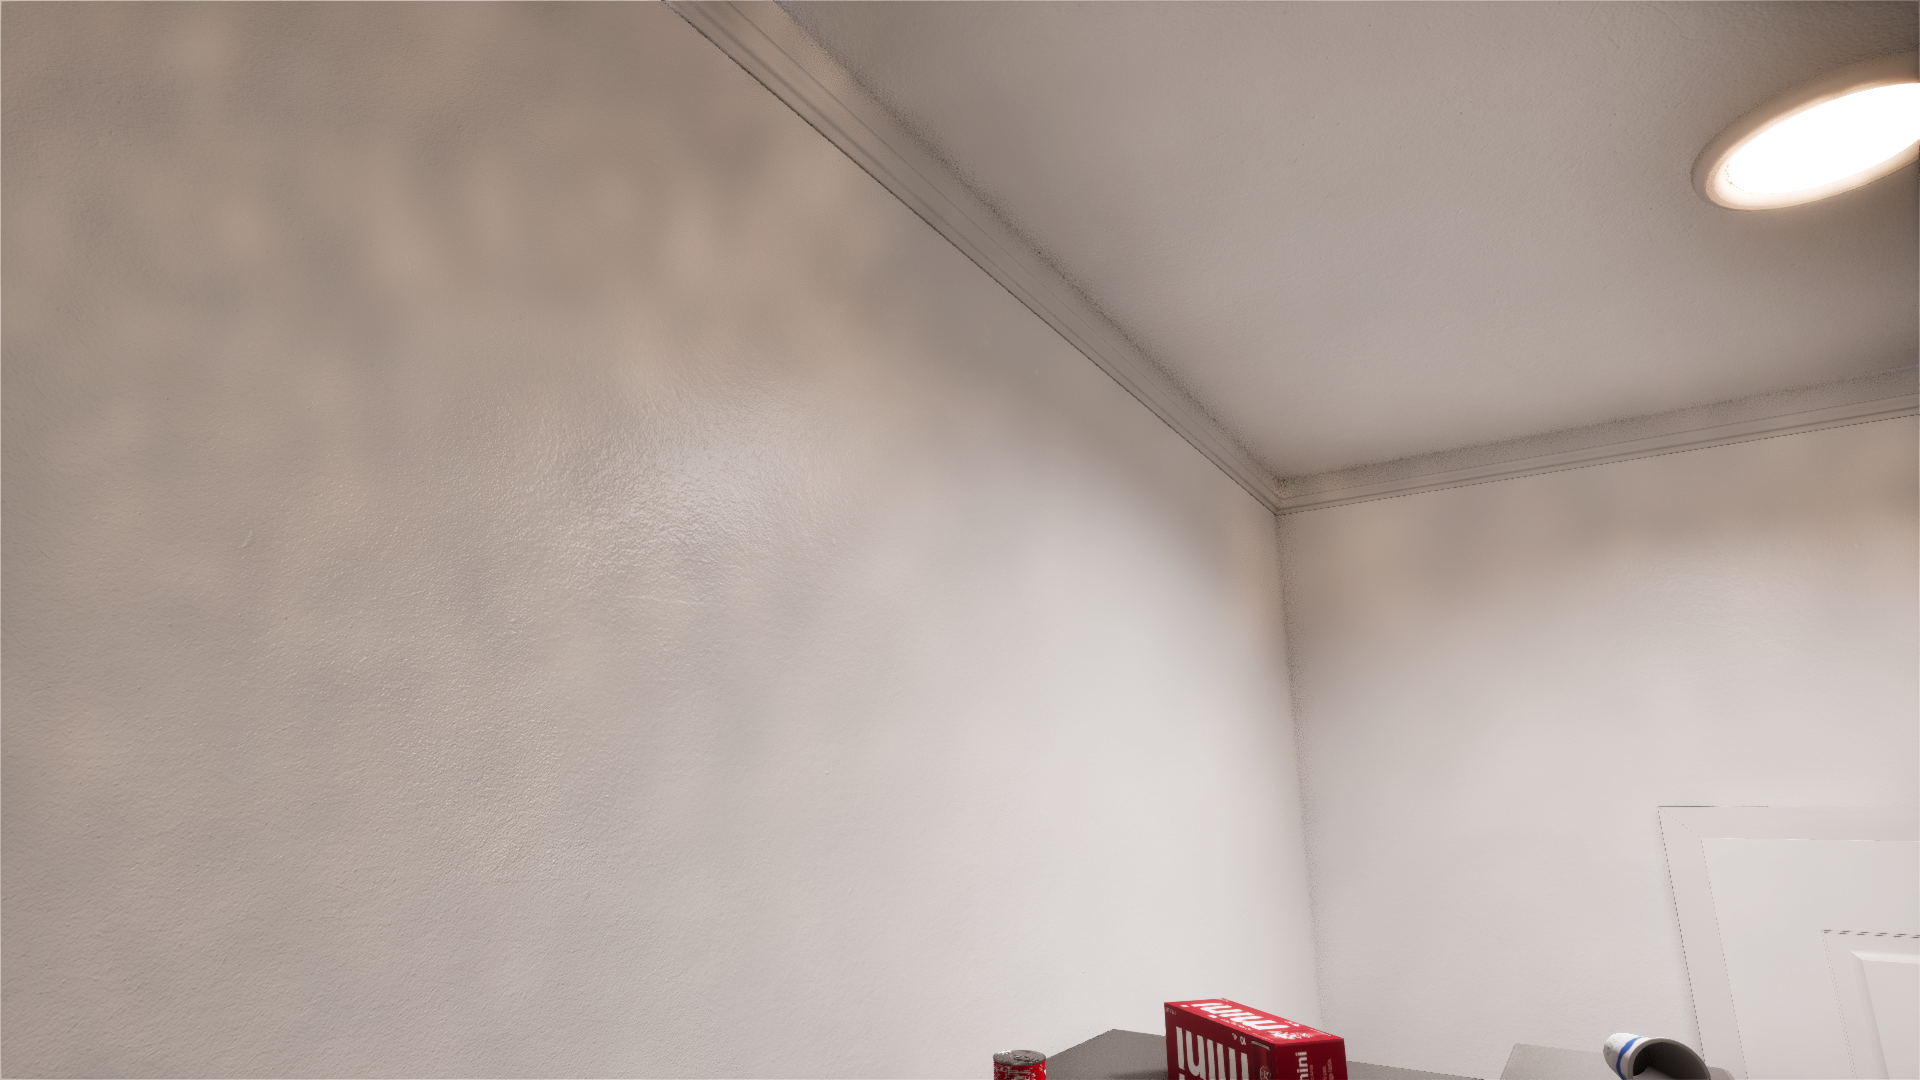soup: (993, 1050, 1046, 1080)
